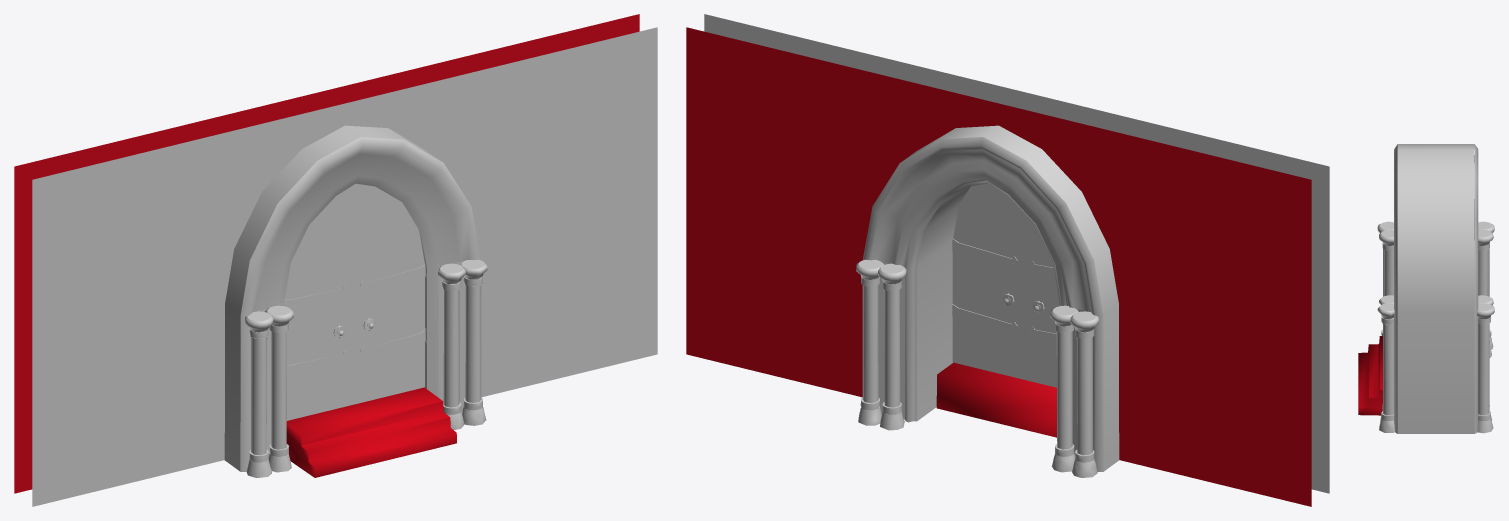
The model's file is Wall_Door (1).fbx.
3 views of the same model, side by side, from view 1: azimuth 30°, elevation 25°; view 2: azimuth 150°, elevation 25°; view 3: azimuth 270°, elevation 25° (orthographic). The views are drawn at different scales.
Visible parts, largest first — view 1: Wall.001, Group_1.003, Group_1.000, Group_1.006; view 2: Wall.001, Group_1.003, Group_1.000, Group_1.006; view 3: Group_1.003.
Boxes of the visible parts, <box> form: Wall.001: <box>14,14,657,506</box>; Group_1.003: <box>224,125,487,477</box>; Group_1.000: <box>354,183,426,404</box>; Group_1.006: <box>284,185,354,420</box>; Wall.001: <box>686,14,1329,506</box>; Group_1.003: <box>856,125,1119,477</box>; Group_1.000: <box>952,183,1023,379</box>; Group_1.006: <box>1023,213,1059,387</box>; Group_1.003: <box>1358,144,1494,433</box>.
Size of the model in its own units: 1000 by 503 by 243.
